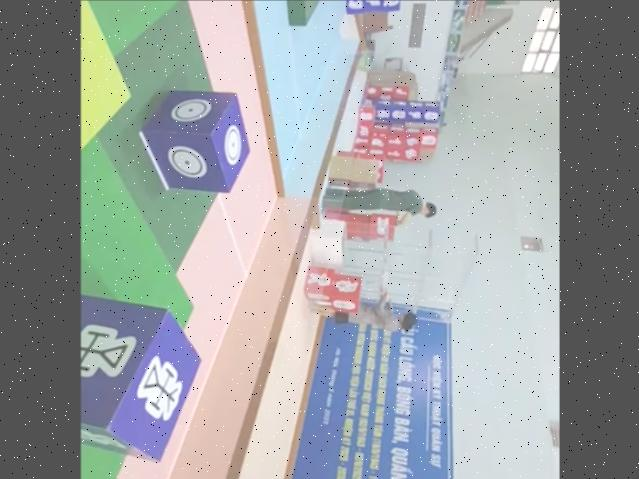R2 Real Blue: (80, 293, 201, 459), (138, 89, 250, 194)
